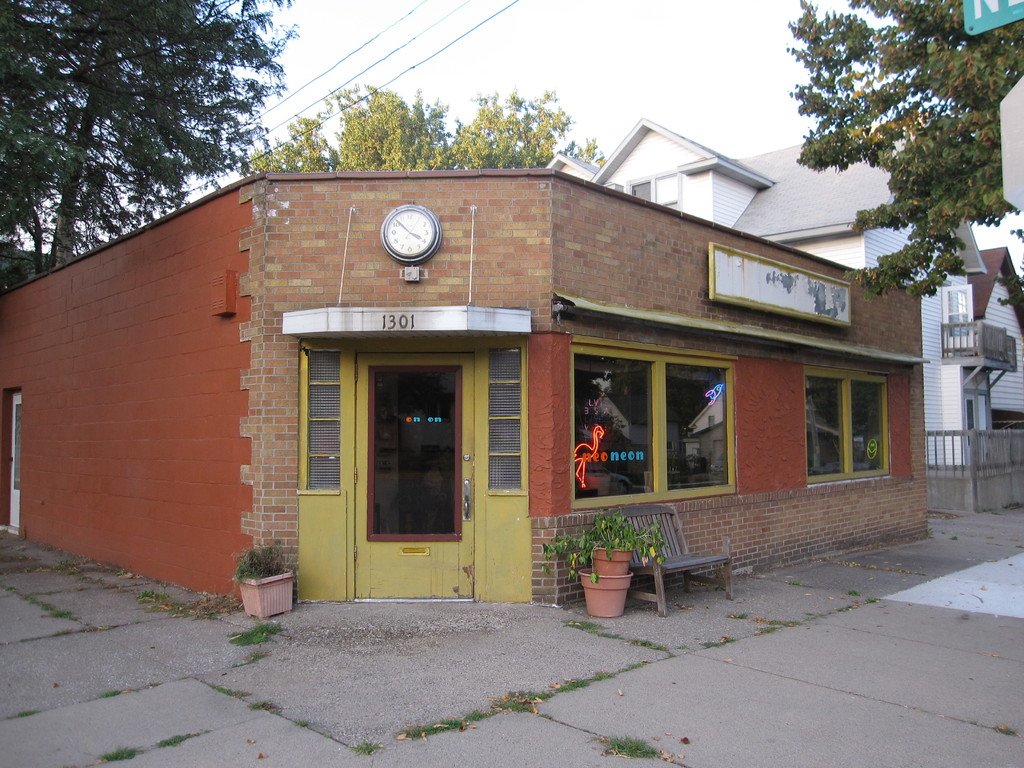Tree: (0, 0, 296, 278), (770, 9, 1006, 329), (251, 81, 622, 183), (536, 500, 663, 578), (236, 536, 298, 619)
